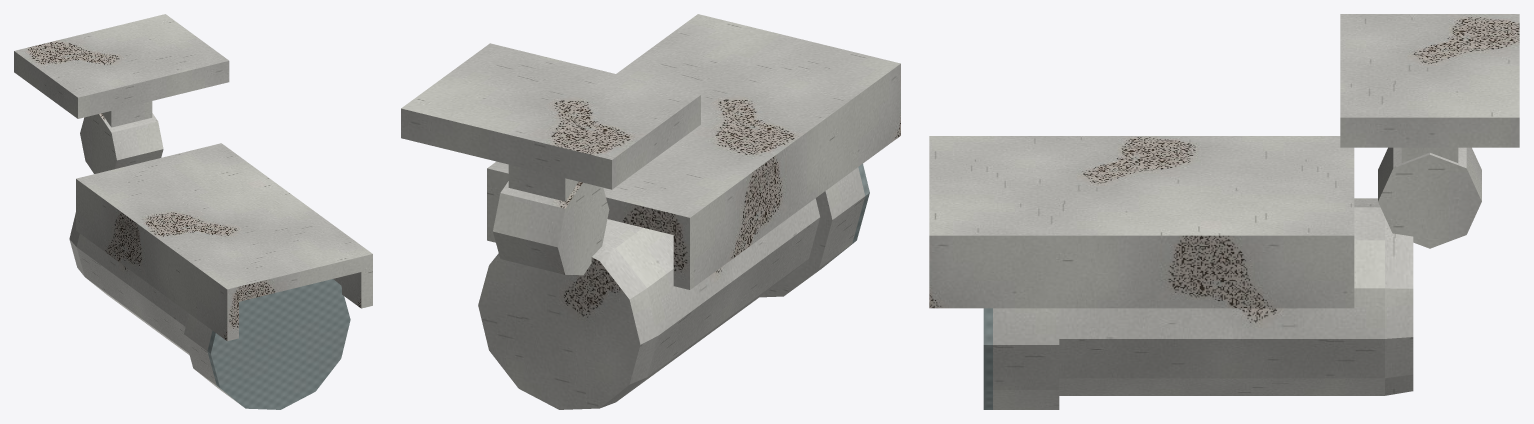
The model's file is camera1.glb.
The picture shows the model from 3 angles, left to right: view 1: azimuth 30°, elevation 25°; view 2: azimuth 150°, elevation 25°; view 3: azimuth 270°, elevation 25°; orthographic projection. The views are drawn at different scales.
Parts seen in each view (by area): view 1: NC_camera1; view 2: NC_camera1; view 3: NC_camera1.
Part boxes in pixels (x1,y1,x2,y2): NC_camera1: (14, 14, 372, 409); NC_camera1: (401, 14, 900, 409); NC_camera1: (929, 14, 1519, 409).
Size of the model in its own units: 0.104 by 0.156 by 0.25.
Materials: 2 (2 with a texture image).
